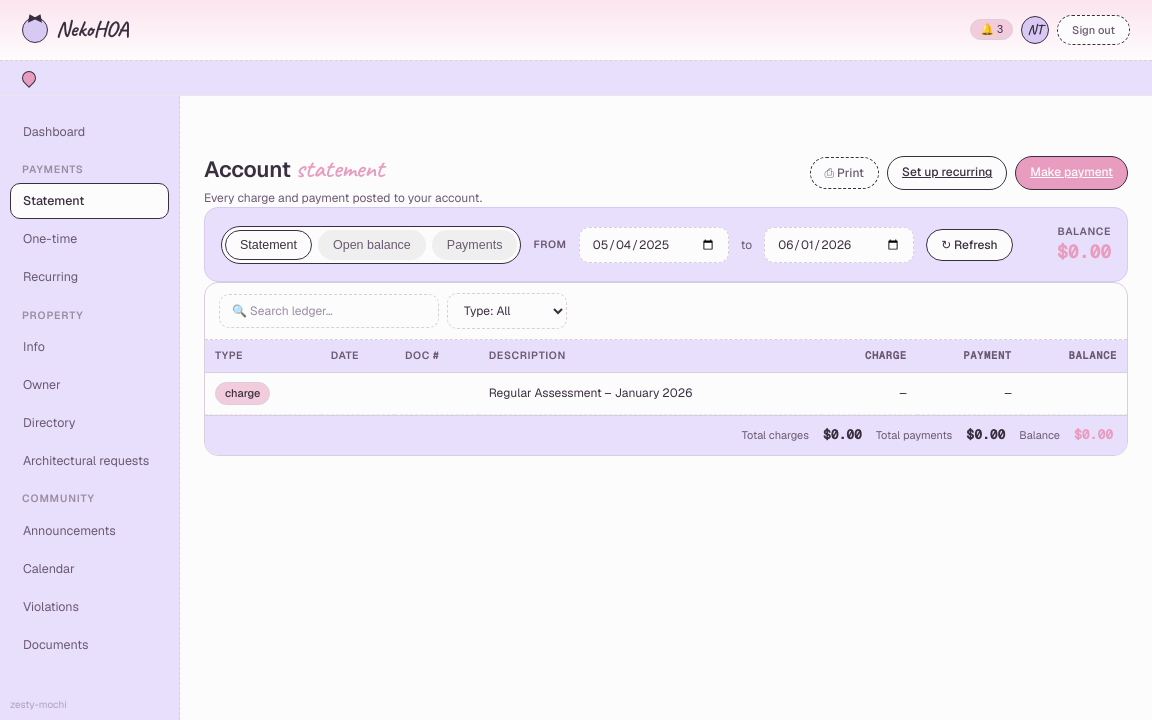
Test: Payment history (statement Payments tab) › shows an empty state when there are no payments
Click the tab with test id "tab-payments" at coordinates (475, 245), box [432, 230, 518, 260]
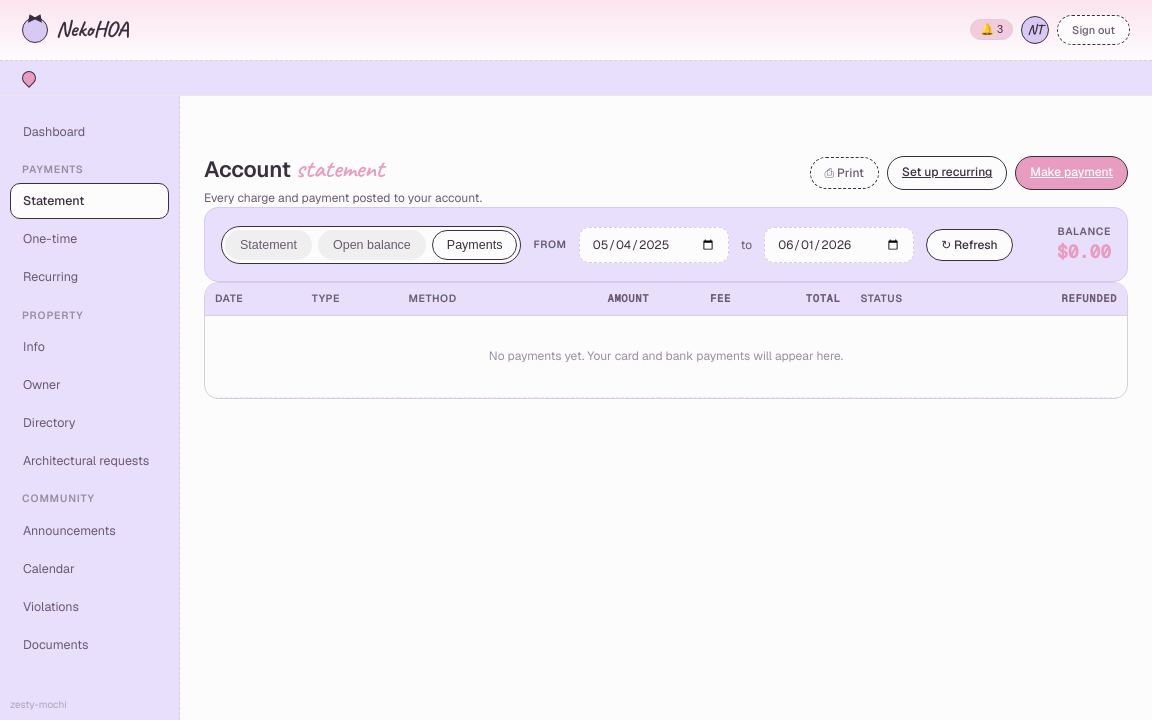
Now the cell with test id "txn-empty" is shown, box [205, 316, 1127, 398]
